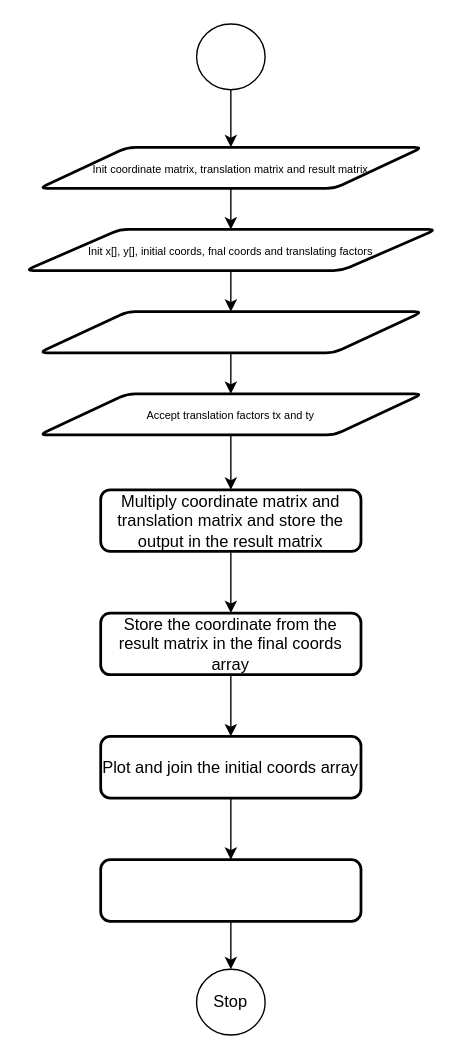
Image size: 460x1059. Some labels were removed from this diagram. The box of each missing label's shape, as (x1, y1, x2, y2) in pixels:
Accept coordinates as input: (37, 310, 423, 353)
Plot and join the final coords array: (99, 858, 362, 922)
Start: (195, 23, 265, 90)
